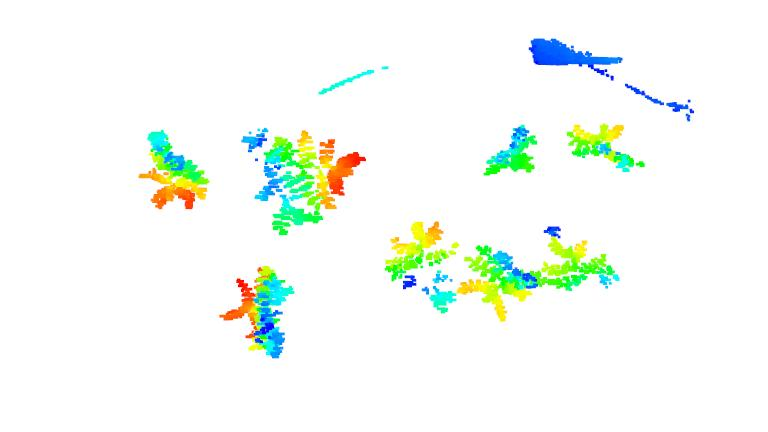chickpea: (242, 125, 369, 236), (383, 220, 461, 315), (221, 266, 297, 359), (136, 130, 214, 211), (456, 245, 538, 321), (535, 226, 624, 293), (568, 117, 645, 175), (481, 120, 539, 179)
